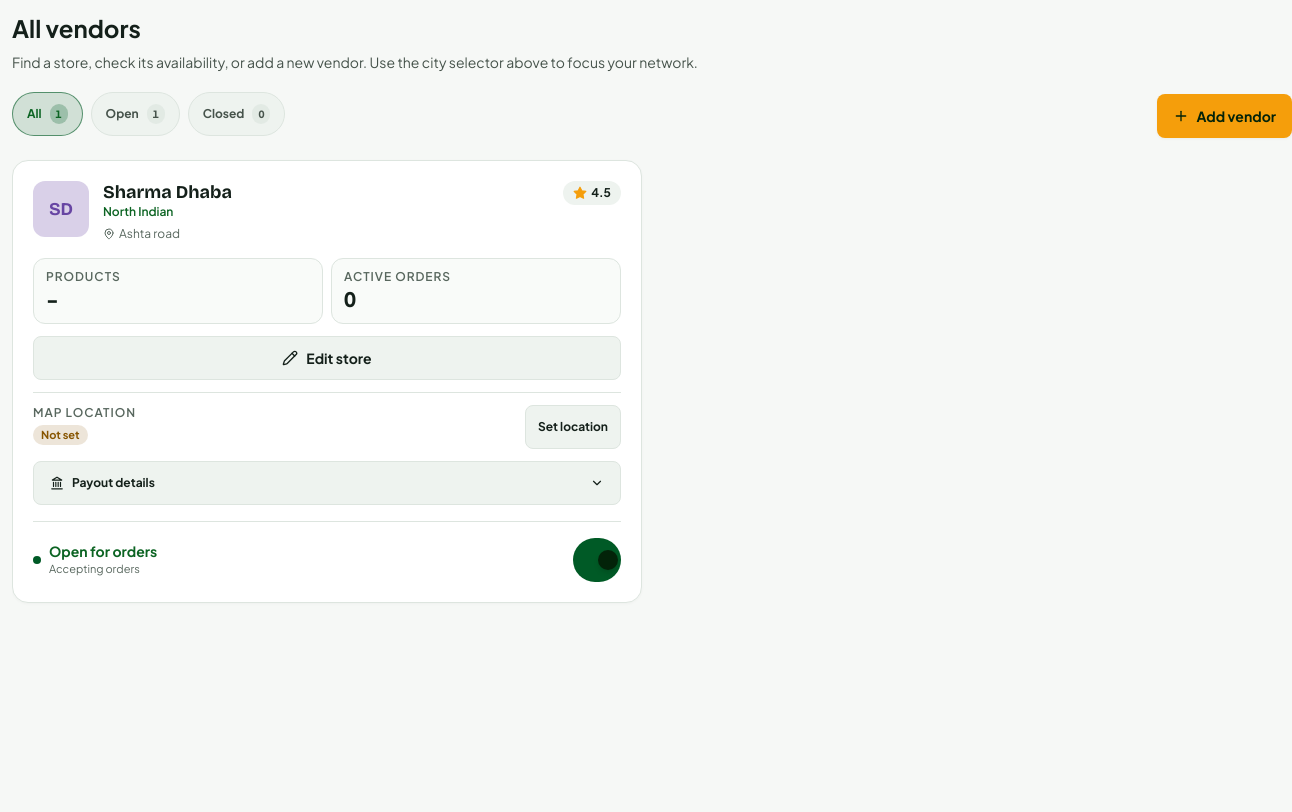
Test: Restaurants: payout details › an approved restaurant has a closed "Payout details" section; nothing is fetched until it is opened
The image size is (1292, 812).
Click the button with aria-label "Payout details of Sharma Dhaba" at (113, 482), box [33,460,621,504]
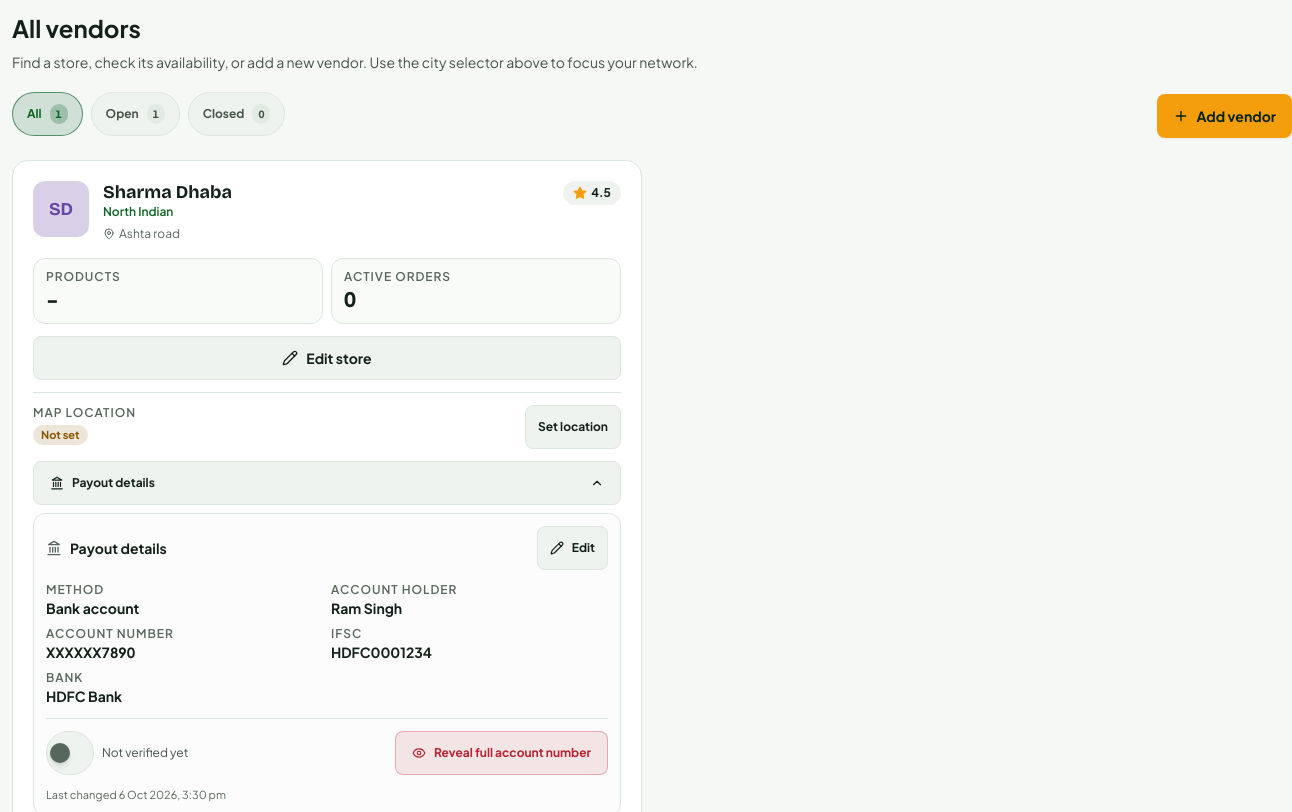
Result: the text "XXXXXX7890" is shown at [46,642,135,660]
Result: the text "HDFC0001234" is shown at [331,642,432,660]
